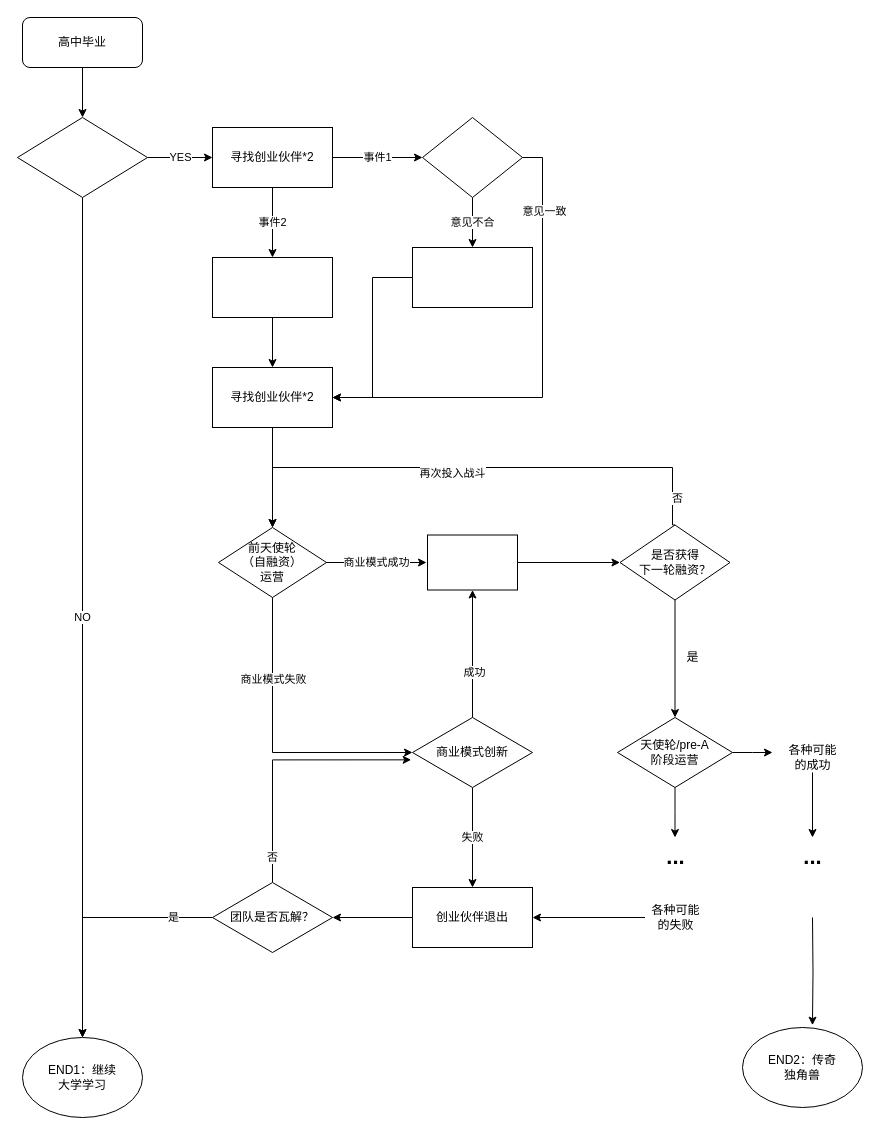
Image size: 880x1135. Some labels were removed from this diagram. Each missing label, with the centre of its shape:
"创业计划商议" goes at pixel 472 157.
"加入人大创业协会or 其他交流平台" goes at pixel 272 287.
"回笼资金，扩大规模" goes at pixel 472 562.
"小伙伴退出*1" goes at pixel 472 277.
"是否有意愿创业？" goes at pixel 82 157.
